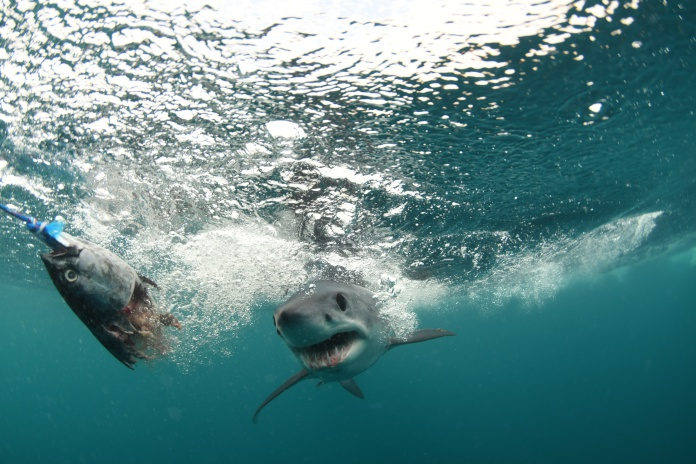Mako: (230, 256, 476, 435)
